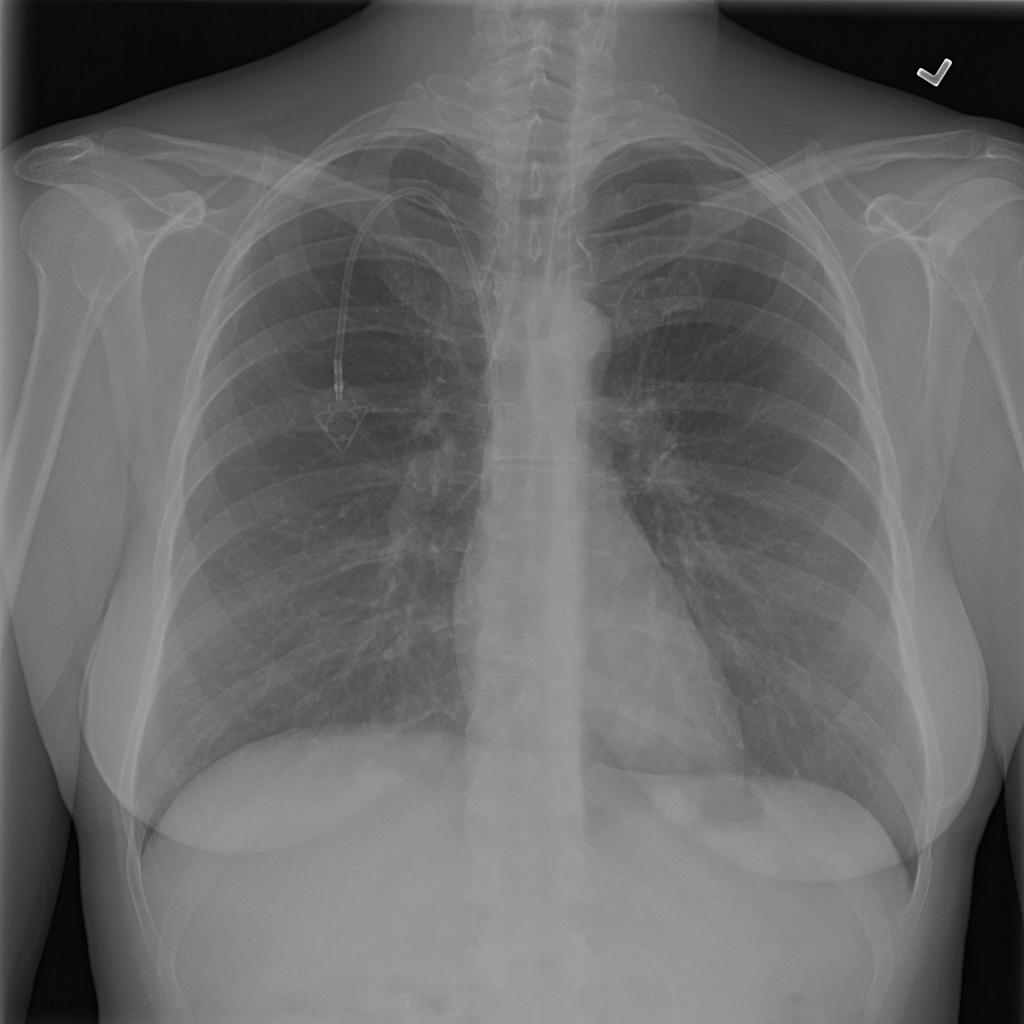nodule: (640, 760, 719, 836), (600, 688, 677, 764), (396, 714, 466, 786)
